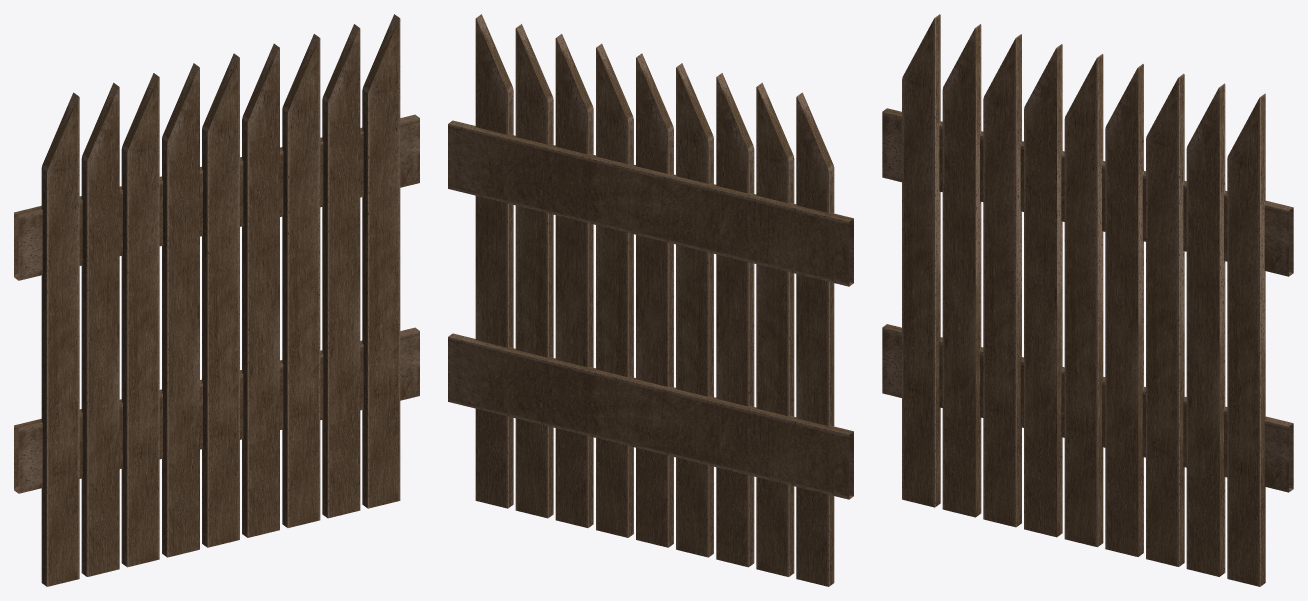
Rendered from Fence_1.fbx.
3 renders of one model, left to right at view 1: azimuth 30°, elevation 25°; view 2: azimuth 150°, elevation 25°; view 3: azimuth 330°, elevation 25°, orthographic.
Visible parts, largest first — view 1: Fence_1; view 2: Fence_1; view 3: Fence_1.
Part boxes in pixels (box(x1,y1,x2,y2)): Fence_1: box(14, 14, 419, 586); Fence_1: box(448, 14, 853, 586); Fence_1: box(882, 14, 1293, 586).
Size of the model in its own units: 2 by 2.3 by 0.0791.
